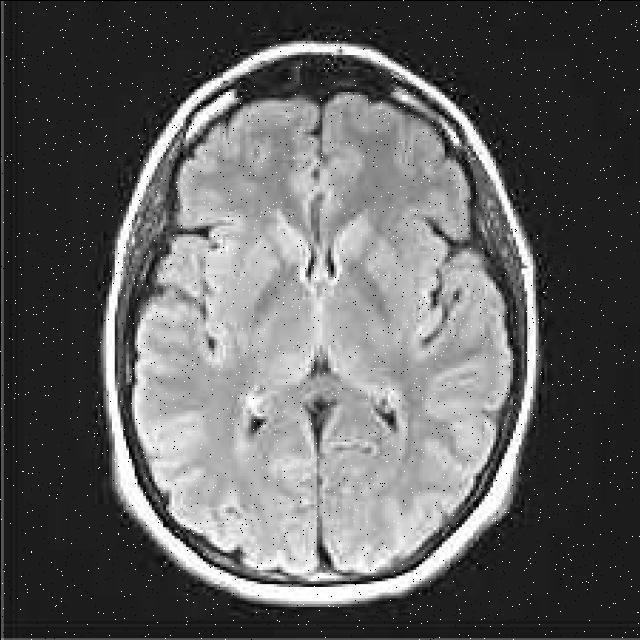No_Tumor: (104, 41, 539, 605)
